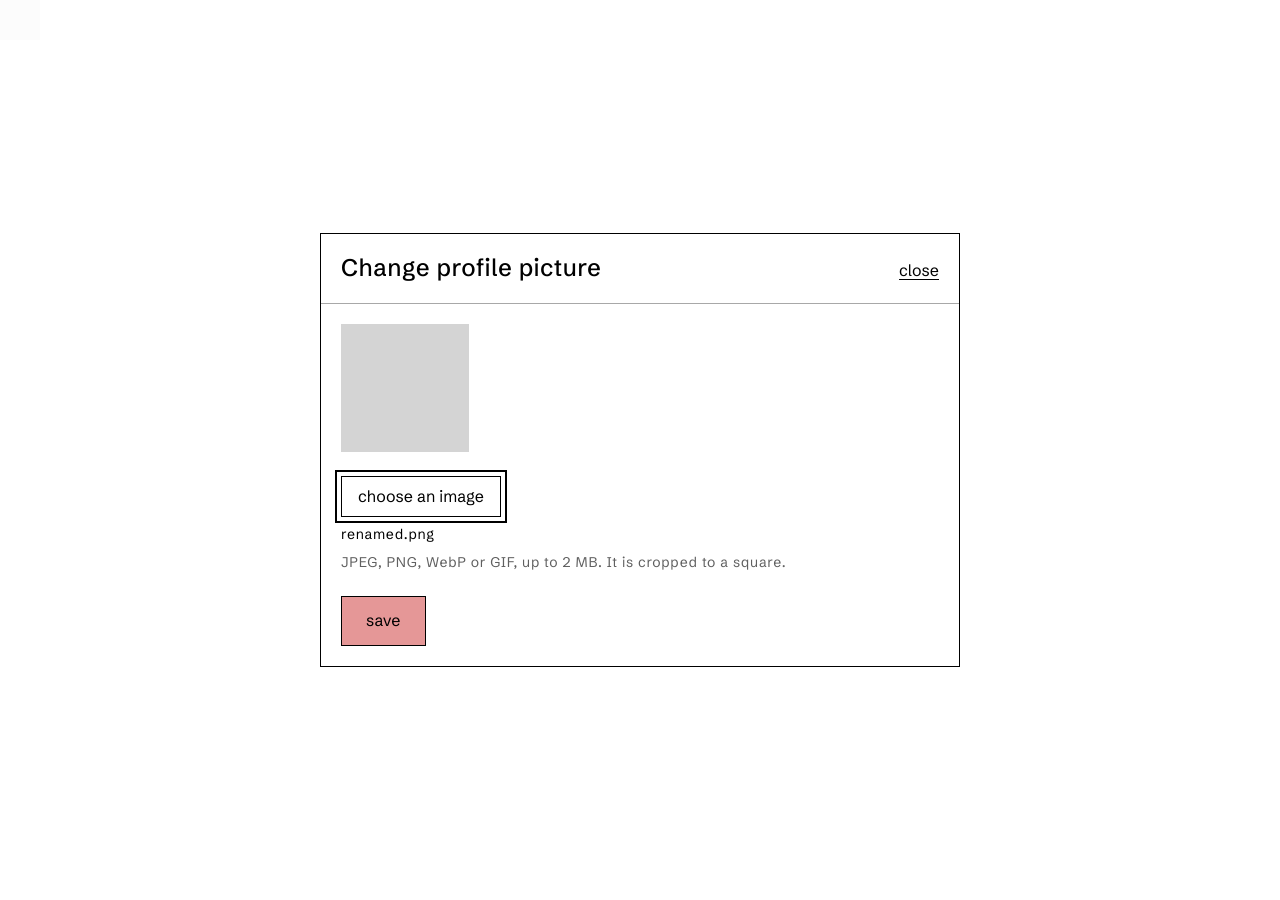
Test: uploading (F-35, F-37, ADR-0012) › clears a server error when another file is chosen
Earlier steps of the test are not shown.
Click the button "save" at (383, 621), box [341,596,426,646]
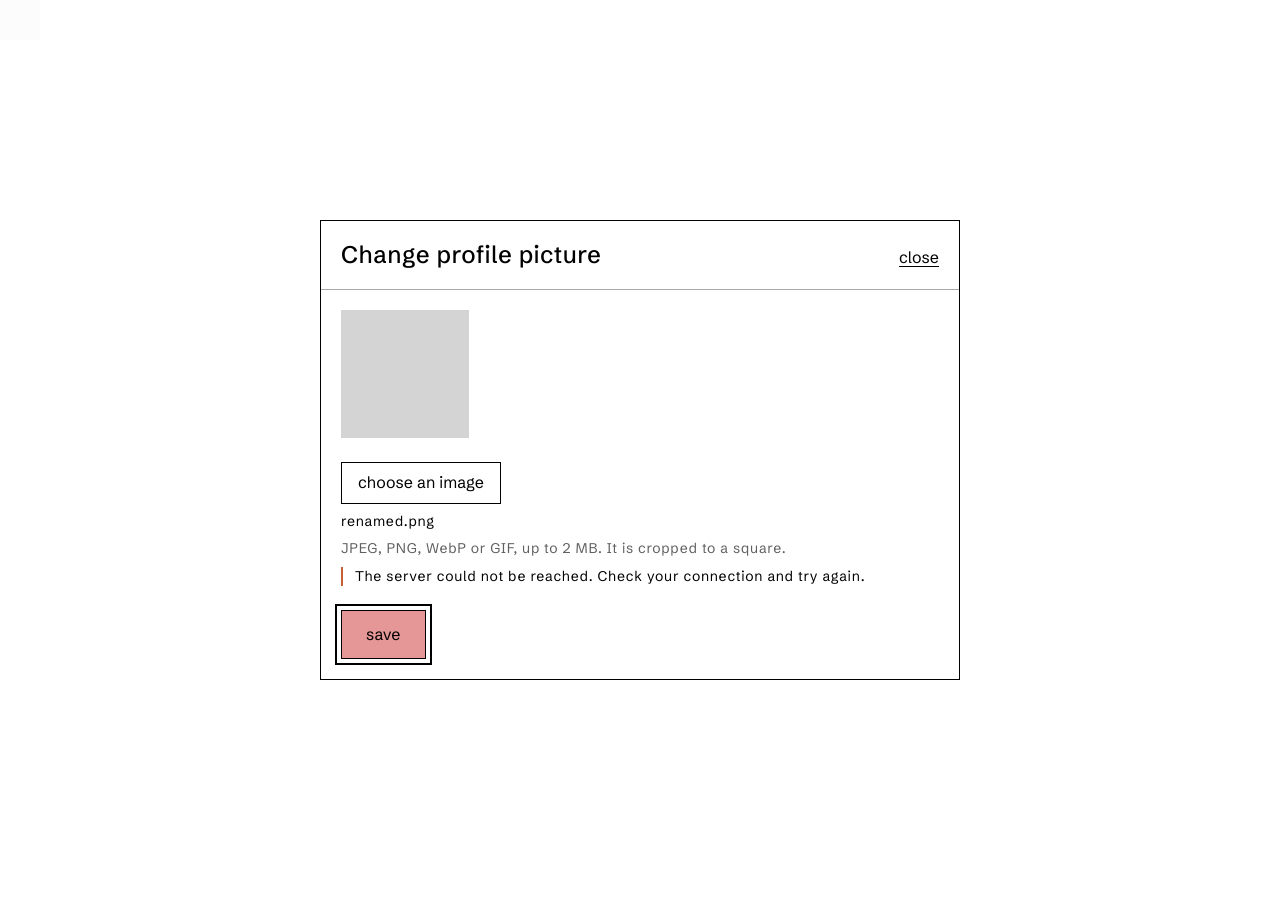
expect the message "The server could not be reached. Check your connection and try again." is shown: met, box [341,567,939,586]
